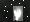person: (14, 7, 24, 22)
